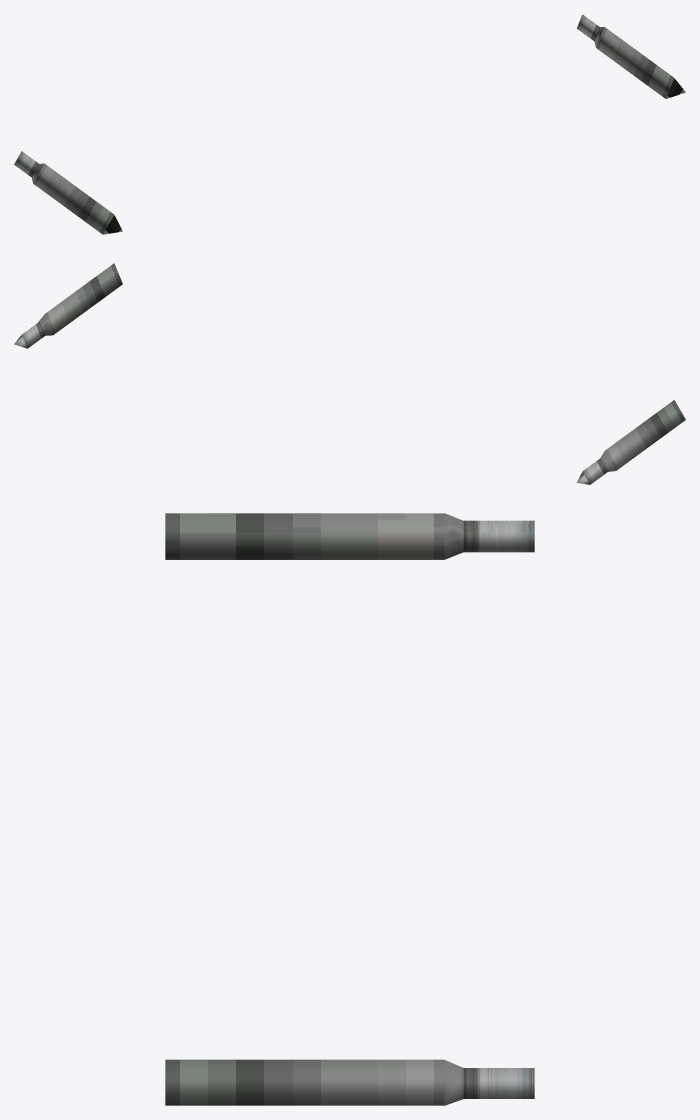
File: hutt_fighter_medium_weapon1_s05_l2.fbx
3 views of the same model, one above another, from view 1: azimuth 30°, elevation 25°; view 2: azimuth 150°, elevation 25°; view 3: azimuth 270°, elevation 25° (orthographic). The views are drawn at different scales.
Parts seen in each view (by area): view 1: mesh_node; view 2: mesh_node; view 3: mesh_node.
Boxes of the visible parts, x1,y1,x2,y2 form: mesh_node: (14,14,685,234); mesh_node: (14,263,685,484); mesh_node: (165,513,534,1105).
Size of the model in its own units: 3.12 by 0.0979 by 0.8563.
Materials: 1 (1 with a texture image).
